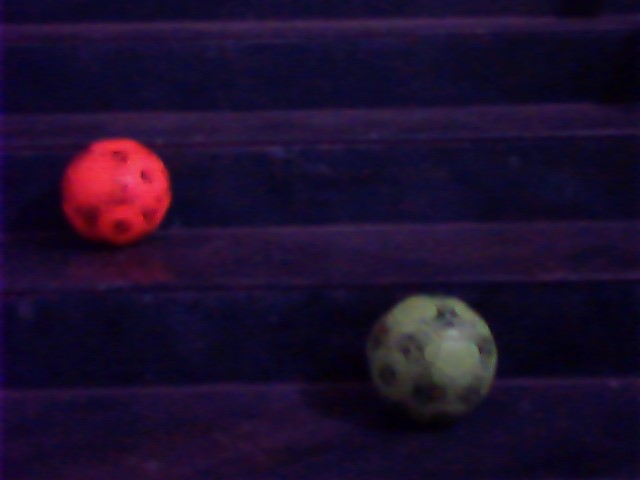Green_ball: (362, 290, 498, 426)
Orange_ball: (60, 131, 178, 249)
